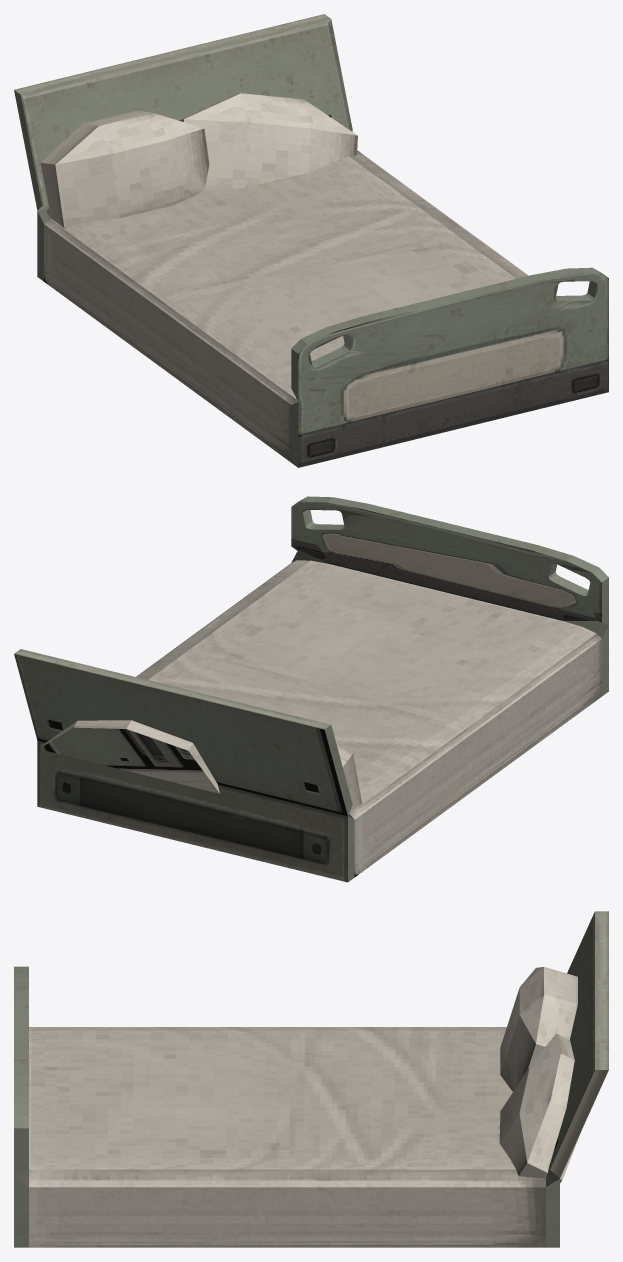
The model's file is bed.glb.
3 renders of one model, top to bottom at view 1: azimuth 30°, elevation 25°; view 2: azimuth 150°, elevation 25°; view 3: azimuth 270°, elevation 25°, orthographic. The views are drawn at different scales.
Visible parts, largest first — view 1: base, Cube.001, Cube; view 2: base, Cube, Cube.001; view 3: base, Cube, Cube.001.
Boxes of the visible parts, x1=… form: base: x1=14, y1=14, x2=608, y2=467; Cube.001: x1=40, y1=110, x2=209, y2=227; Cube: x1=178, y1=93, x2=357, y2=190; base: x1=14, y1=496, x2=608, y2=882; Cube: x1=42, y1=720, x2=219, y2=793; Cube.001: x1=336, y1=743, x2=361, y2=812; base: x1=14, y1=911, x2=608, y2=1247; Cube: x1=499, y1=1033, x2=580, y2=1182; Cube.001: x1=500, y1=967, x2=577, y2=1091.
Size of the model in its own units: 4.17 by 2.18 by 6.6.
1 material, 1 textured.
